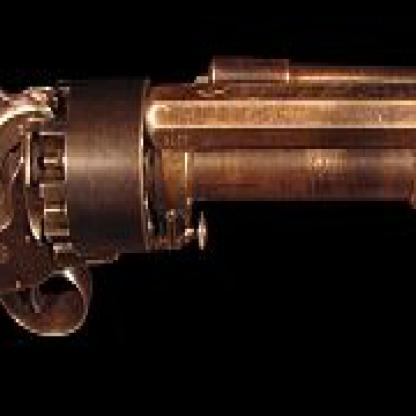gun: (0, 45, 414, 413)
